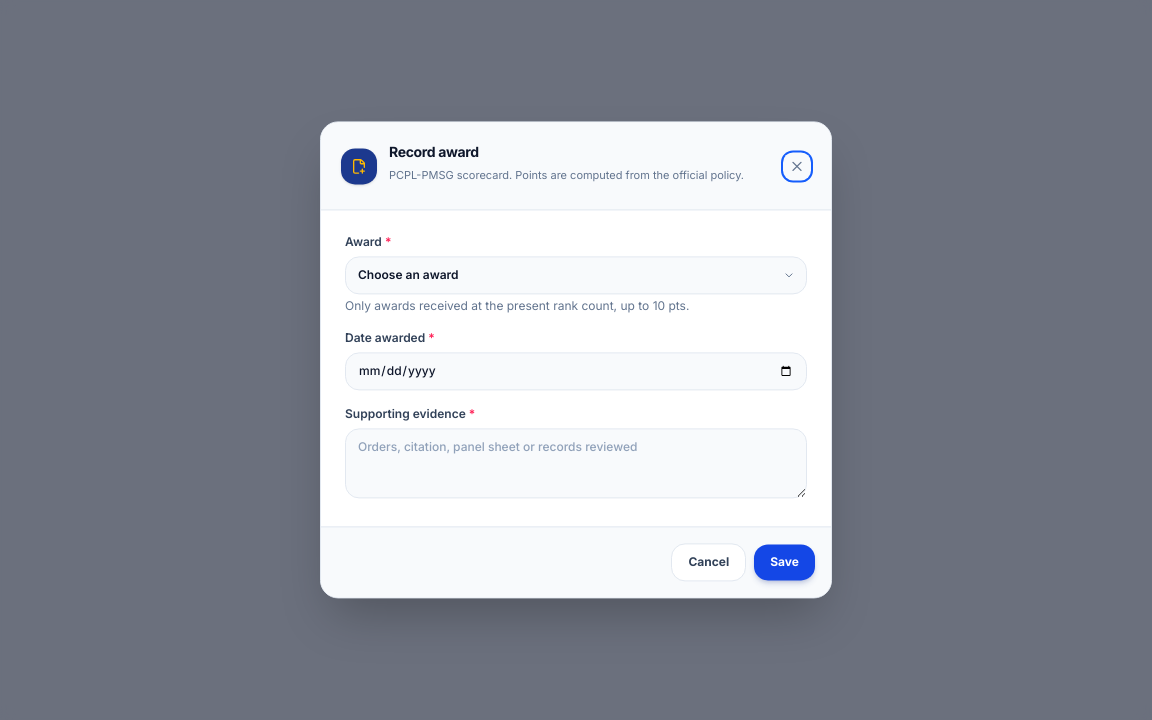
Test: PromotionScoreEvidenceDialog › lists policy awards with their fixed points and shows RPC errors
Select "Medalya ng Kagitingan (10 pts)" in the dropdown labelled "Award *" at (576, 276), box [345, 257, 807, 295]
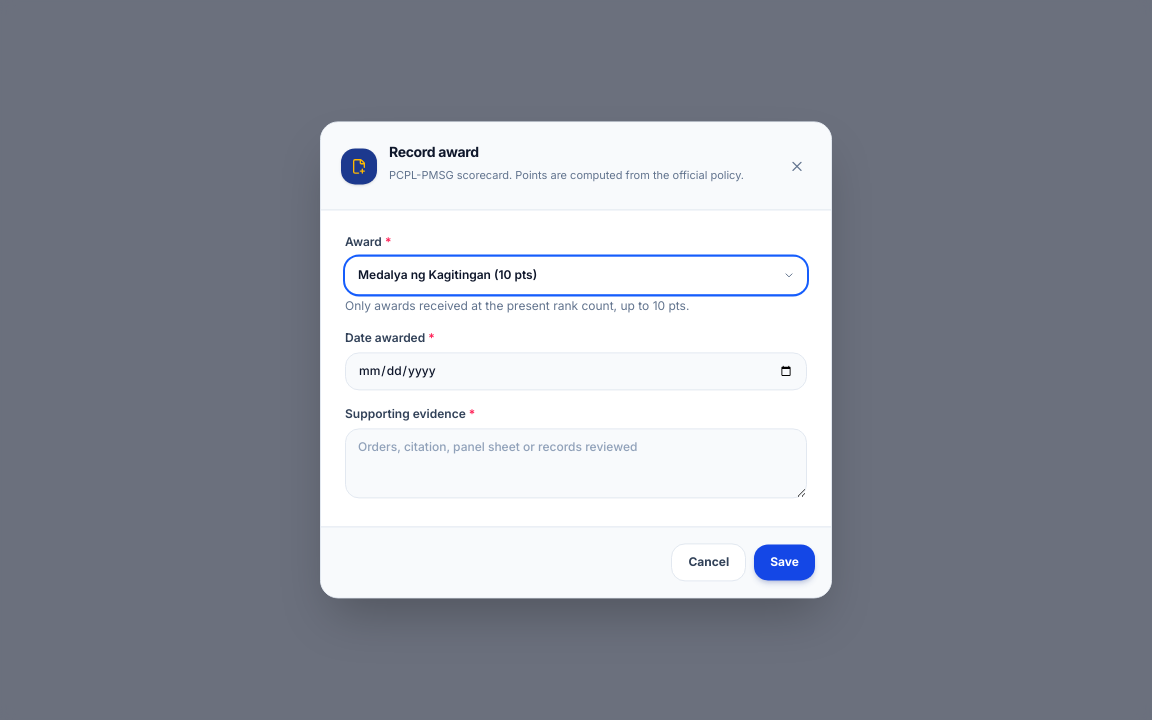
Type "2026-03-01" into the date field labelled "Date awarded *".
click(576, 372); type("2026-03-01")  # box [345, 353, 807, 391]
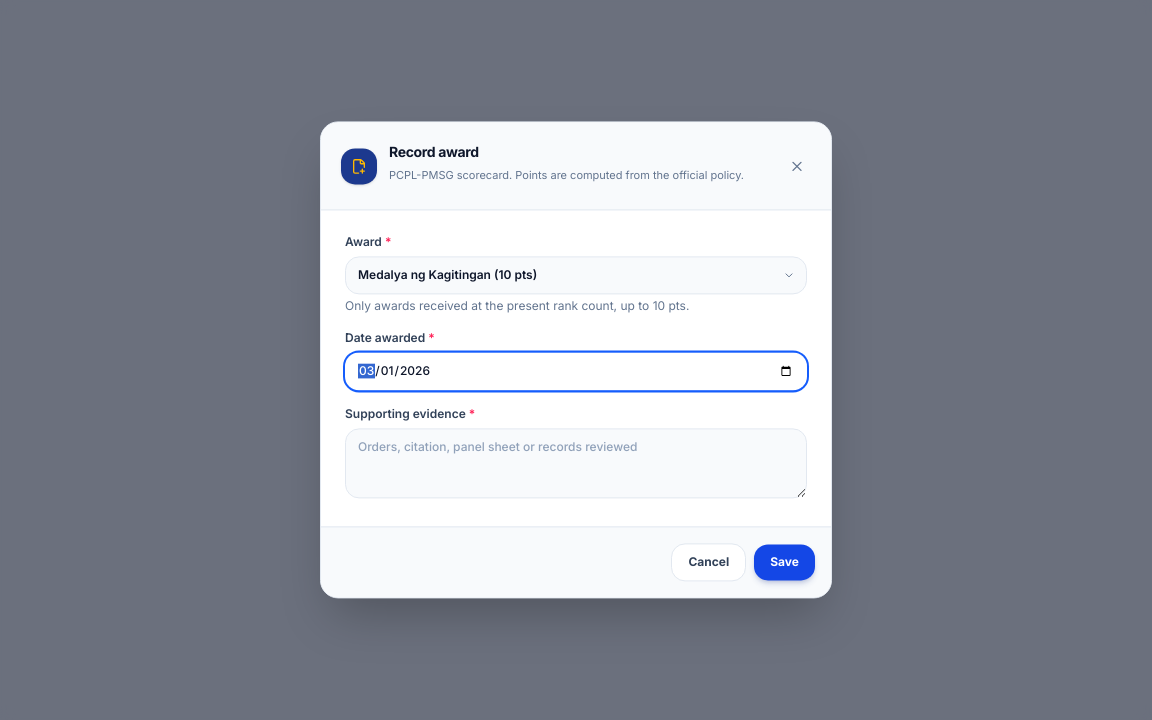
Type "Citation" into the text box labelled "Supporting evidence *".
click(576, 464); type("Citation")  # box [345, 429, 807, 499]
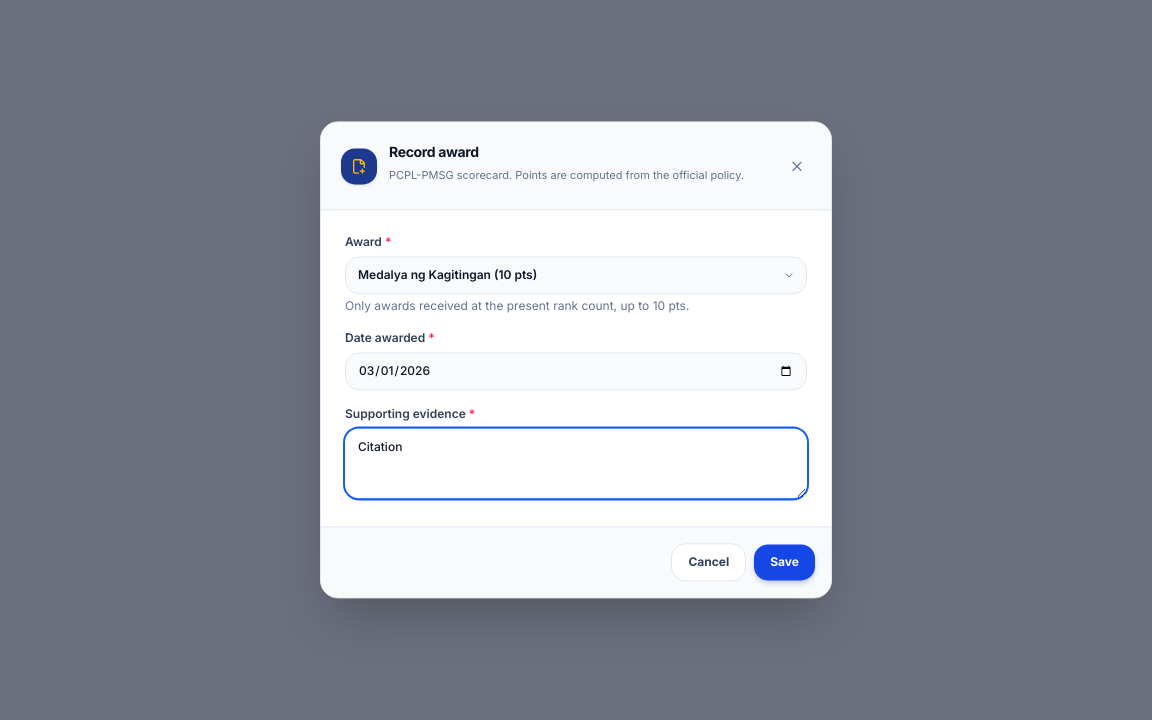
Click the button "Save".
click(785, 563)  # box [754, 545, 815, 581]
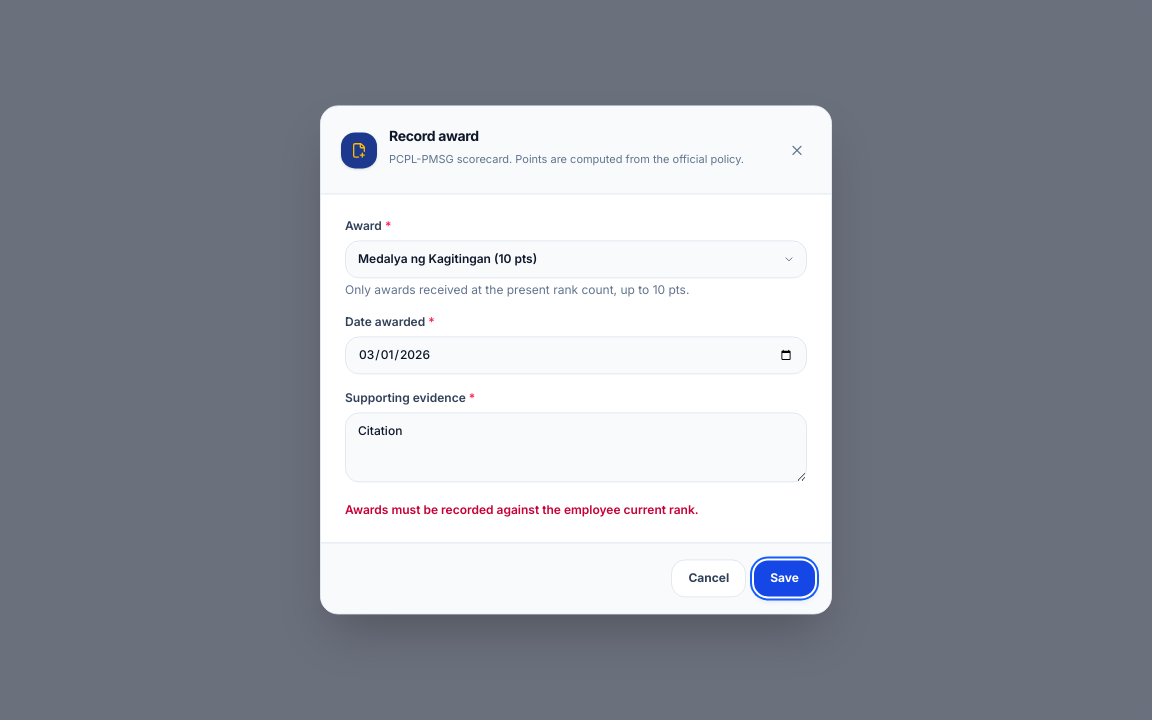
Check: the message shows "current rank", box [345, 503, 698, 518]
